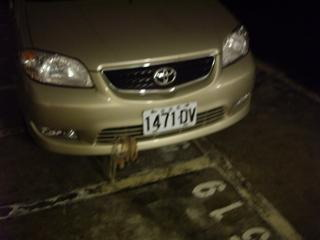plate: (143, 104, 198, 133)
